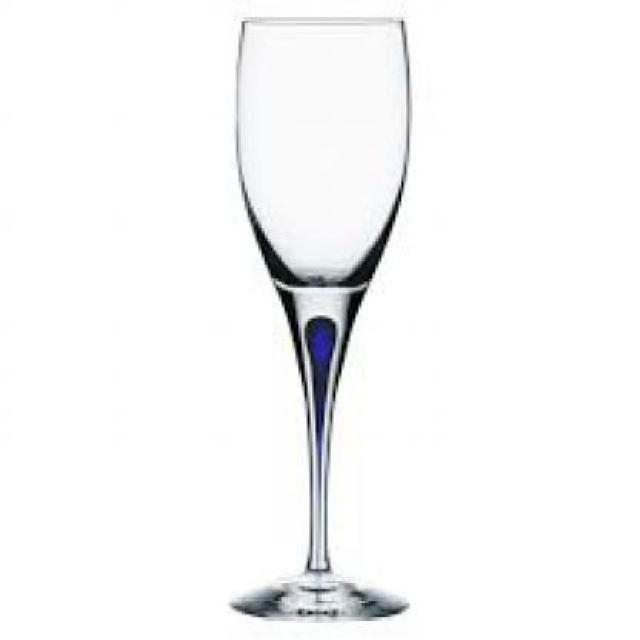kaca: (225, 16, 406, 616)
